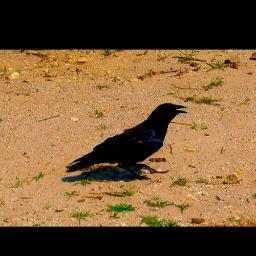Crow: (66, 103, 188, 180)
